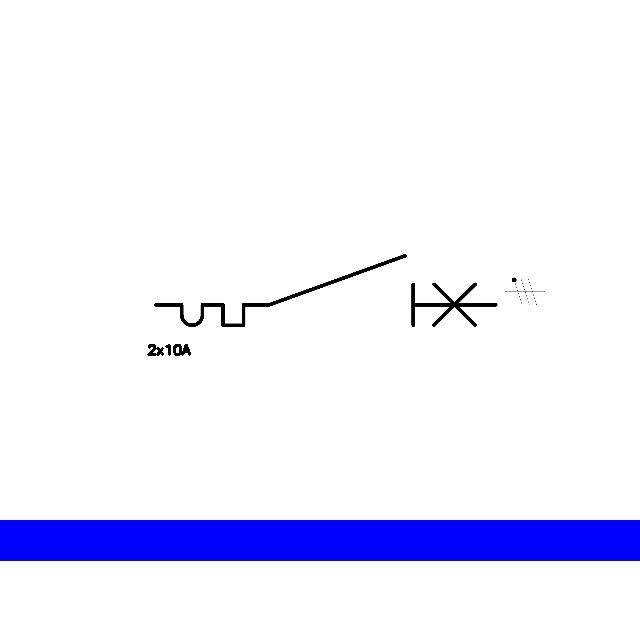interruptor_termomagnetico: (147, 247, 505, 334)
